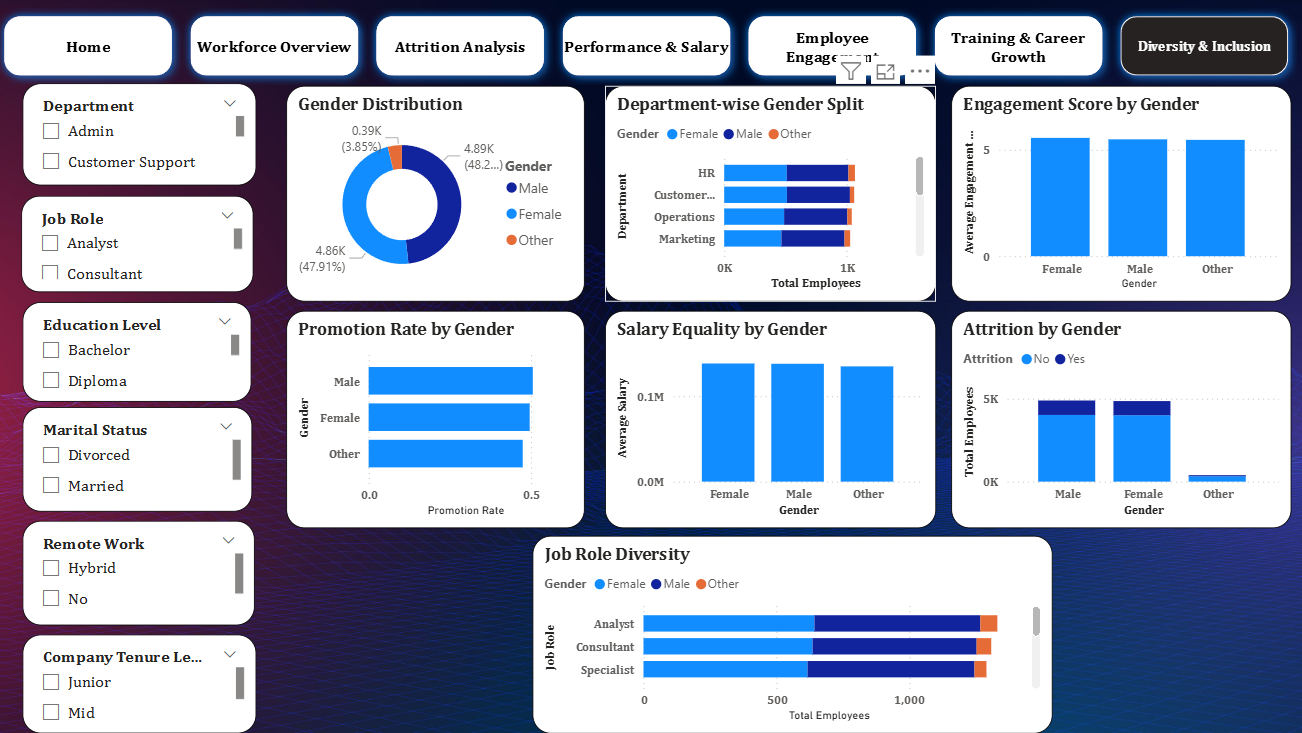

The page's visual inventory and layout, read from the dashboard file:
{"tool":"powerbi","page":{"name":"Diversity & Inclusion","canvas":[1280,720],"ordinal":6},"visuals":[{"type":"image","box":[0,0,1280.3,720.2],"z":0},{"type":"pageNavigator","box":[0,10,1280.1,76.7],"z":1000},{"type":"donutChart","title":"Gender Distribution","fields":{"Category":["HR_Data.Gender"],"Y":["CountNonNull(HR_Data.Employee_ID)"]},"box":[284.9,86.8,292.3,211.6],"z":2000},{"type":"barChart","title":"Department-wise Gender Split","fields":{"Category":["HR_Data.Department"],"Series":["HR_Data.Gender"],"Y":["CountNonNull(HR_Data.Employee_ID)"]},"box":[596.7,86.8,324.1,211.6],"z":3000},{"type":"clusteredColumnChart","title":"Salary Equality by Gender","fields":{"Y":["HR_Data.Avg Salary"],"Category":["HR_Data.Gender"]},"box":[596.7,306.9,324.1,212.8],"z":4000},{"type":"clusteredBarChart","title":"Promotion Rate by Gender","fields":{"Y":["HR_Data.Promotion_Rate"],"Category":["HR_Data.Gender"]},"box":[284.9,306.9,292.3,212.8],"z":5000},{"type":"columnChart","title":"Engagement Score by Gender","fields":{"Category":["HR_Data.Gender"],"Y":["HR_Data.Avg_Engagement"]},"box":[935.5,86.8,332.6,211.6],"z":6000},{"type":"columnChart","title":"Attrition by Gender","fields":{"Category":["HR_Data.Gender"],"Series":["HR_Data.Attrition"],"Y":["CountNonNull(HR_Data.Employee_ID)"]},"box":[935.5,306.9,332.6,212.8],"z":7000},{"type":"barChart","title":"Job Role Diversity","fields":{"Category":["HR_Data.Job_Role"],"Series":["HR_Data.Gender"],"Y":["CountNonNull(HR_Data.Employee_ID)"]},"box":[525.8,527,508.7,193.2],"z":8000},{"type":"slicer","fields":{"Values":["HR_Data.Department"]},"box":[26.9,84.4,228.7,100.3],"z":9000},{"type":"slicer","fields":{"Values":["HR_Data.Job_Role"]},"box":[25.7,194.4,227.4,94.2],"z":10000},{"type":"slicer","fields":{"Values":["HR_Data.Education_Level"]},"box":[26.9,298.4,223.8,97.8],"z":11000},{"type":"slicer","fields":{"Values":["HR_Data.Marital_Status"]},"box":[26.9,401.1,225,102.7],"z":12000},{"type":"slicer","fields":{"Values":["HR_Data.Remote_Work"]},"box":[26.9,512.4,227.4,102.7],"z":13000},{"type":"slicer","fields":{"Values":["HR_Data.Company_Tenure_Level"]},"box":[26.9,623.6,228.7,96.6],"z":14000}]}

Visuals, with their boxes in screenshot pixels (x1, y1, x2, y2), scaled from the page's 1280x720 canvas onto the 1302x733 screenshot:
image: <region>0, 0, 1301, 732</region>
pageNavigator: <region>0, 10, 1301, 88</region>
"Gender Distribution" donutChart: <region>290, 88, 587, 304</region>
"Department-wise Gender Split" barChart: <region>607, 88, 937, 304</region>
"Salary Equality by Gender" clusteredColumnChart: <region>607, 312, 937, 529</region>
"Promotion Rate by Gender" clusteredBarChart: <region>290, 312, 587, 529</region>
"Engagement Score by Gender" columnChart: <region>952, 88, 1290, 304</region>
"Attrition by Gender" columnChart: <region>952, 312, 1290, 529</region>
"Job Role Diversity" barChart: <region>535, 537, 1052, 732</region>
slicer - HR_Data.Department: <region>27, 86, 260, 188</region>
slicer - HR_Data.Job_Role: <region>26, 198, 257, 294</region>
slicer - HR_Data.Education_Level: <region>27, 304, 255, 403</region>
slicer - HR_Data.Marital_Status: <region>27, 408, 256, 513</region>
slicer - HR_Data.Remote_Work: <region>27, 522, 259, 626</region>
slicer - HR_Data.Company_Tenure_Level: <region>27, 635, 260, 732</region>
